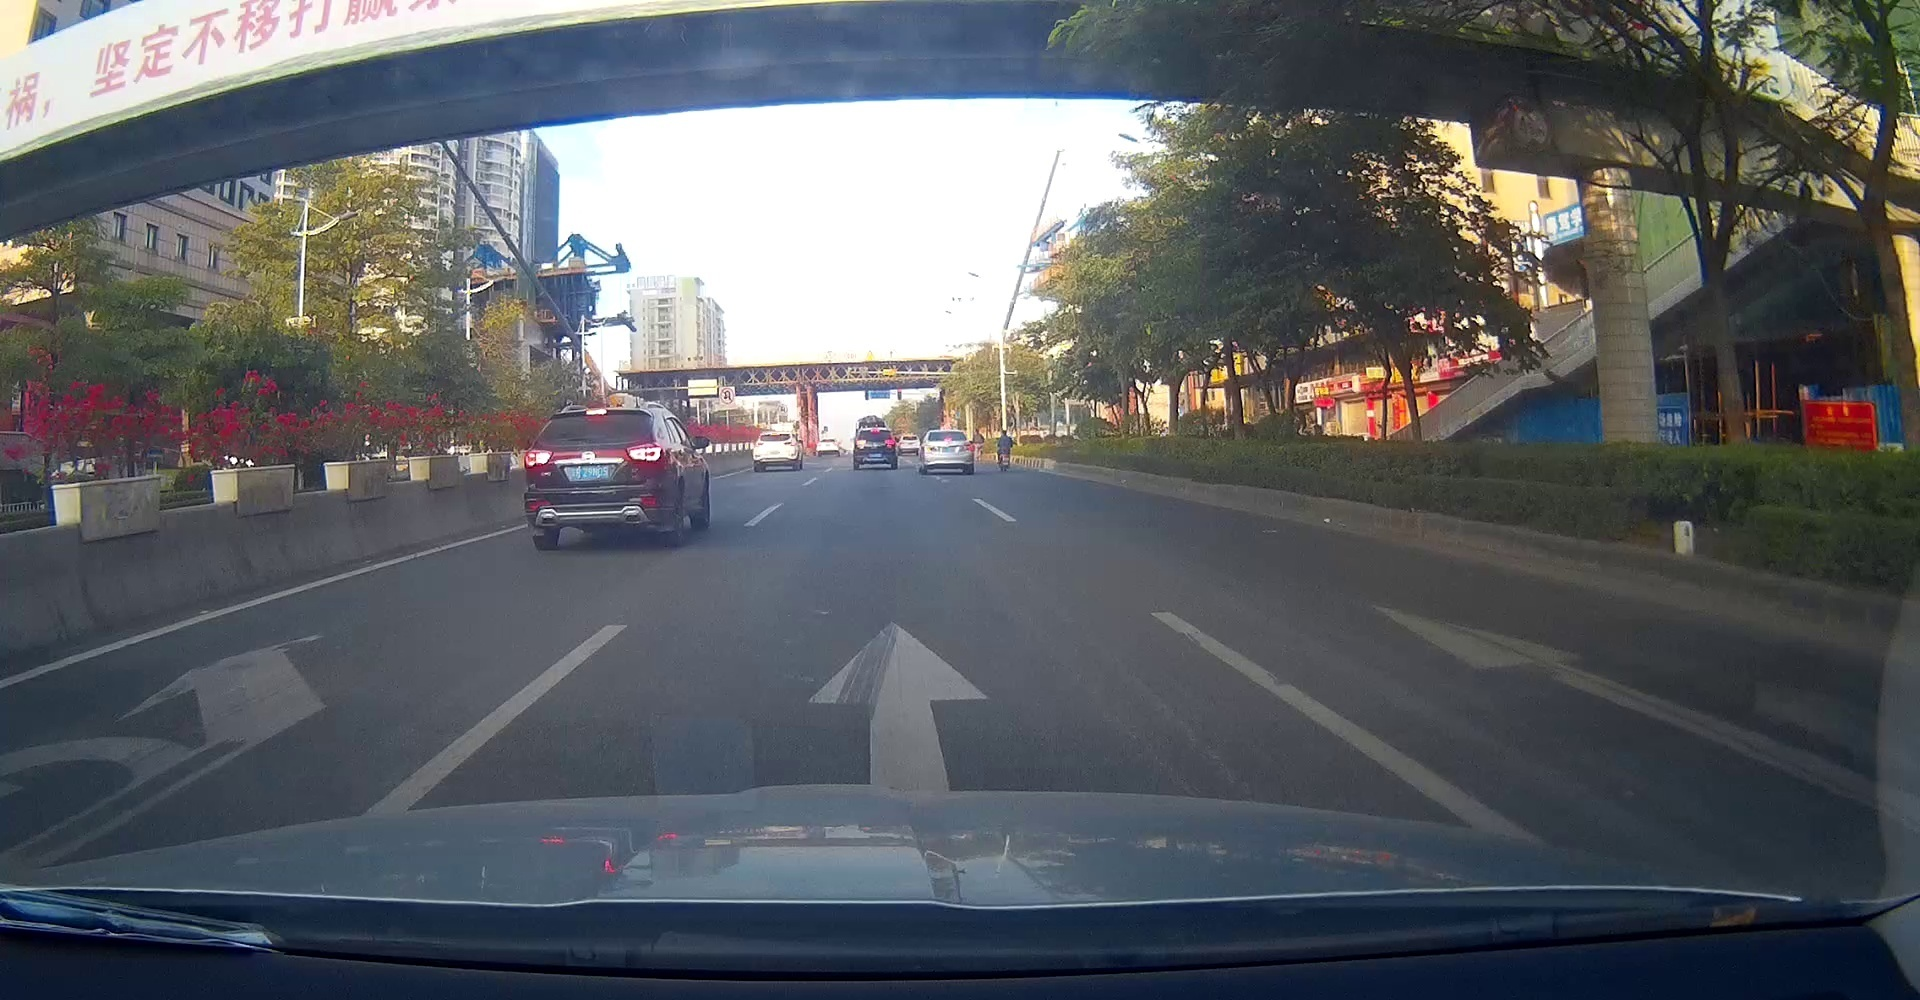L_light: (523, 448, 554, 471), (924, 444, 938, 456), (855, 439, 866, 448)
R_light: (623, 442, 667, 468), (883, 438, 897, 447), (964, 442, 974, 453)
T_light: (568, 464, 610, 481), (582, 409, 608, 415), (869, 428, 880, 434), (942, 437, 952, 442)
day-brake: (521, 405, 676, 549)
day-left: (923, 429, 974, 475), (852, 426, 899, 470)
